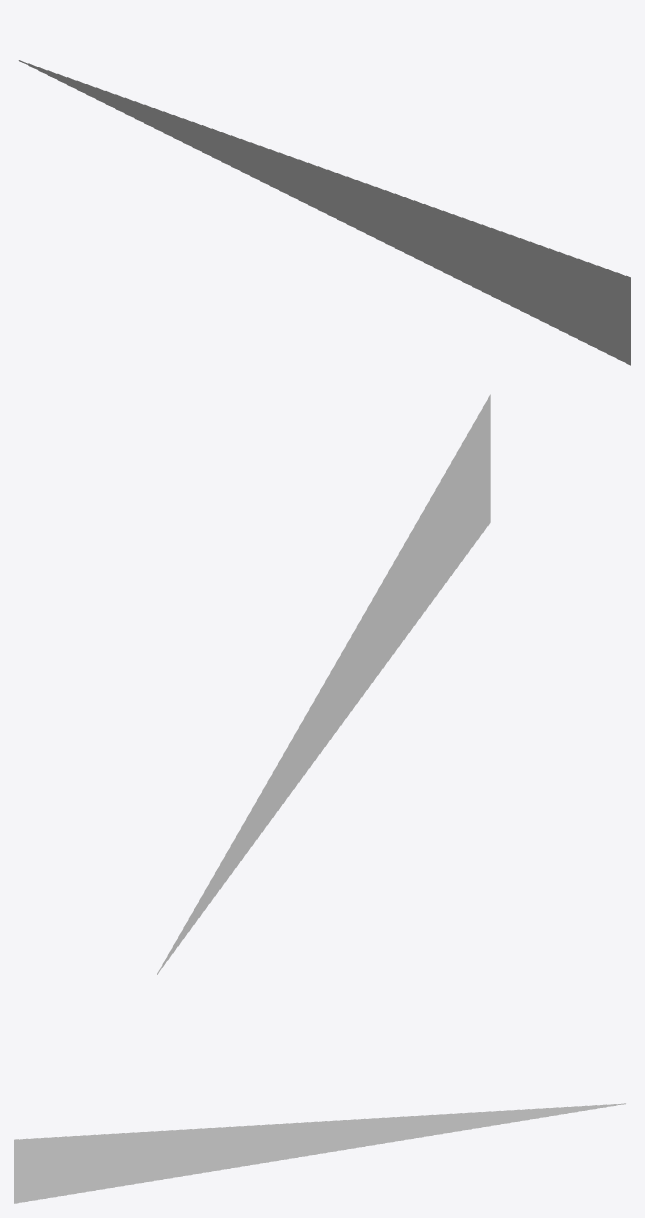
File: Flag.fbx
3 renders of one model, top to bottom at view 1: azimuth 30°, elevation 25°; view 2: azimuth 150°, elevation 25°; view 3: azimuth 270°, elevation 25°, orthographic. The views are drawn at different scales.
Parts seen in each view (by area): view 1: Flag; view 2: Flag; view 3: Flag.
Boxes of the visible parts, <box> form: Flag: <box>18,60,630,365</box>; Flag: <box>157,394,490,974</box>; Flag: <box>14,1103,625,1203</box>.
Size of the model in its own units: 1.32 by 0.5756 by 5.01.
1 material, 1 textured.
